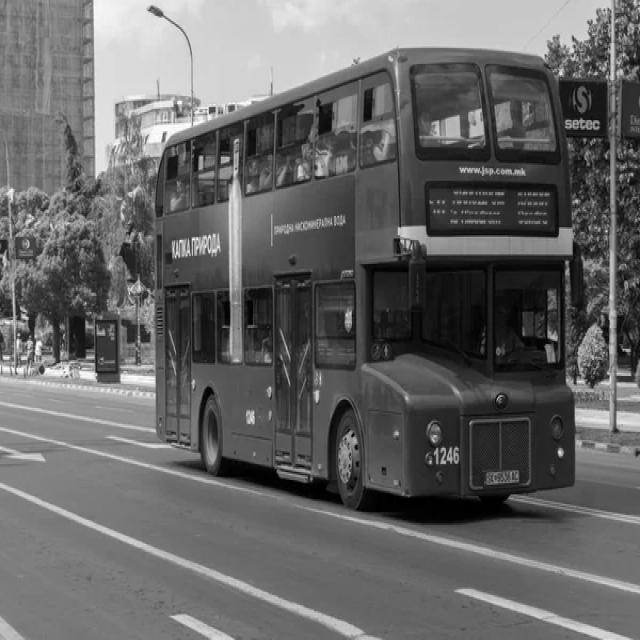Bus: (154, 48, 584, 508)
